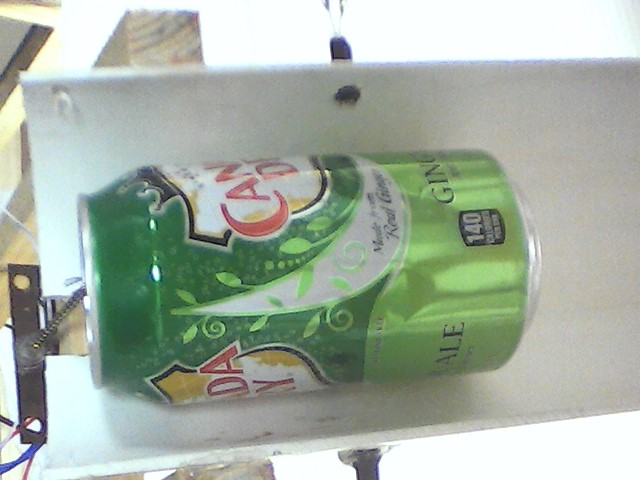lata: (72, 144, 549, 414)
